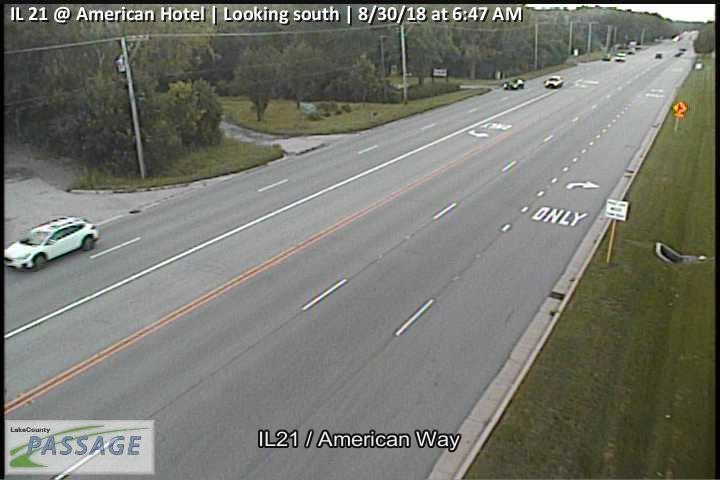SUV: (3, 216, 102, 273)
Sedan: (546, 75, 563, 89)
